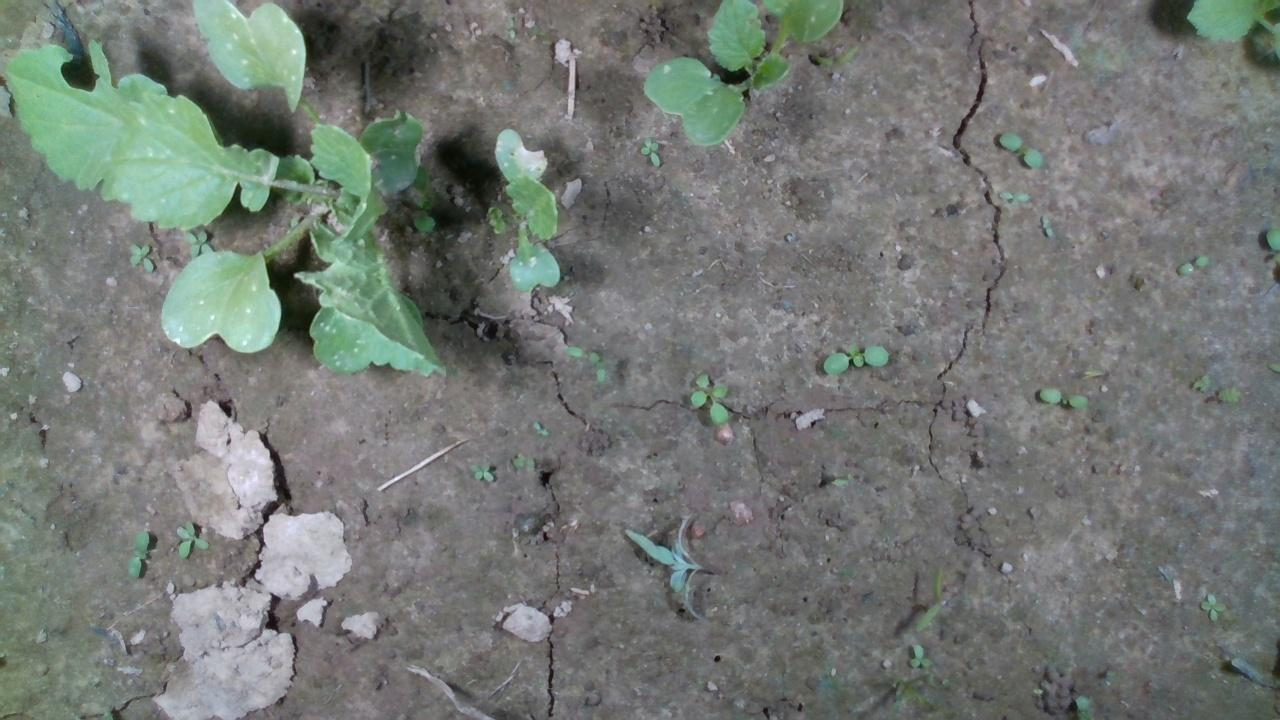weed: (819, 338, 890, 376), (687, 371, 730, 425), (912, 564, 945, 631), (996, 129, 1042, 169), (173, 517, 209, 558), (126, 527, 151, 580), (1036, 385, 1088, 409), (1194, 591, 1226, 621), (125, 242, 154, 273), (637, 135, 662, 169), (1174, 254, 1210, 274), (467, 457, 494, 483), (907, 642, 932, 667), (996, 188, 1030, 203), (1040, 210, 1052, 237)
